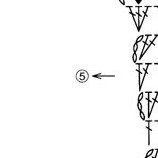double treble: (135, 85, 158, 147)
enseble_chain: (128, 29, 158, 69), (126, 4, 147, 33), (138, 91, 158, 120), (130, 64, 150, 93), (140, 120, 157, 147), (91, 68, 116, 83), (75, 70, 90, 84), (145, 147, 158, 158)
